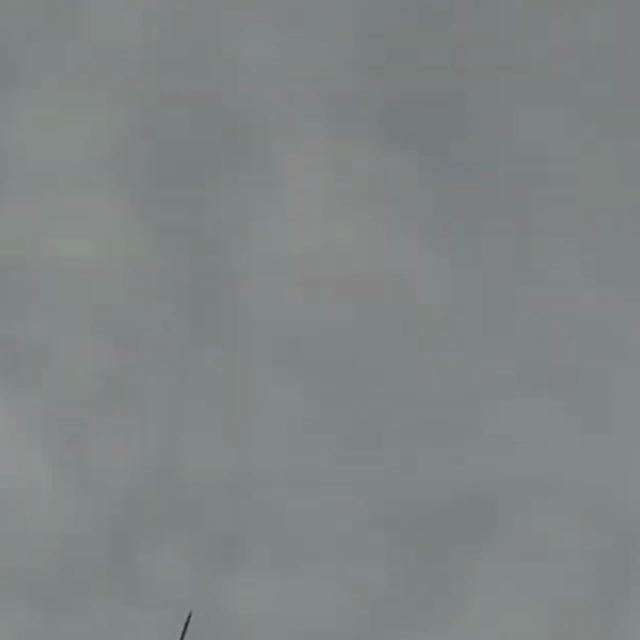rocket: (174, 611, 193, 640)
